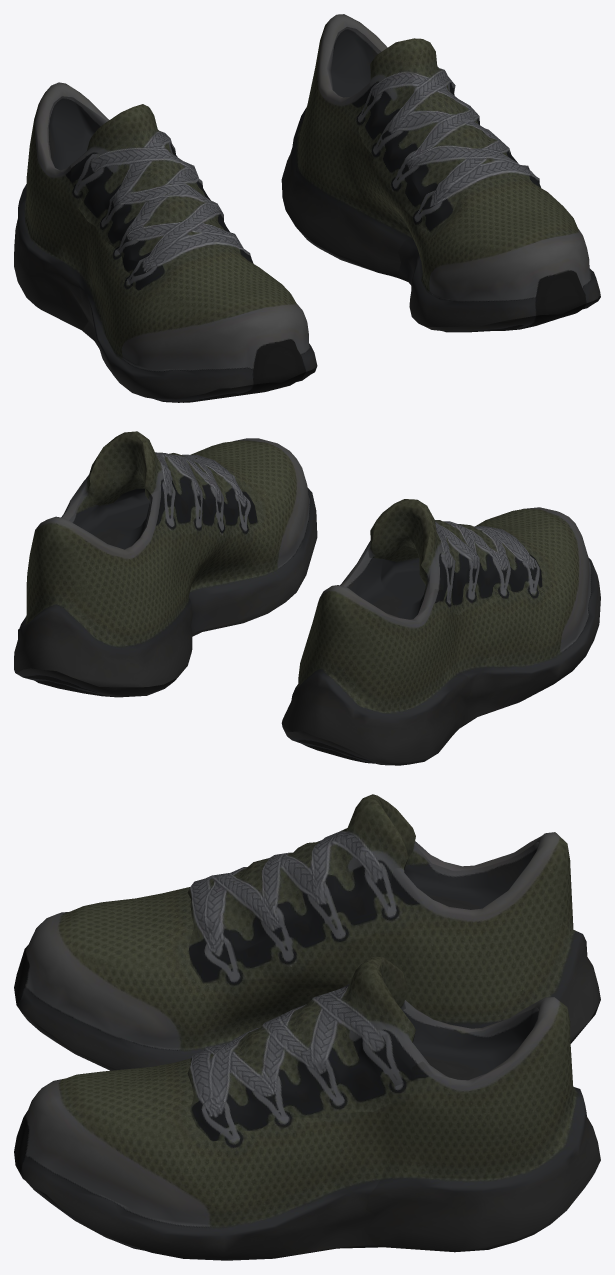
The model's file is kaaro_techwear_-_sneakers.glb.
3 views of the same model, one above another, from view 1: azimuth 30°, elevation 25°; view 2: azimuth 150°, elevation 25°; view 3: azimuth 270°, elevation 25° (orthographic). The views are drawn at different scales.
Visible parts, largest first — view 1: g (×5); view 2: g (×6); view 3: g (×6).
Part boxes in pixels (x1,y1,x2,y2): g (×5): (14, 14, 600, 402); g (×6): (14, 431, 600, 765); g (×6): (14, 794, 600, 1260).
Bounding box in the file's own units: 2 × 0.9339 × 1.86.
1 material, 1 textured.
